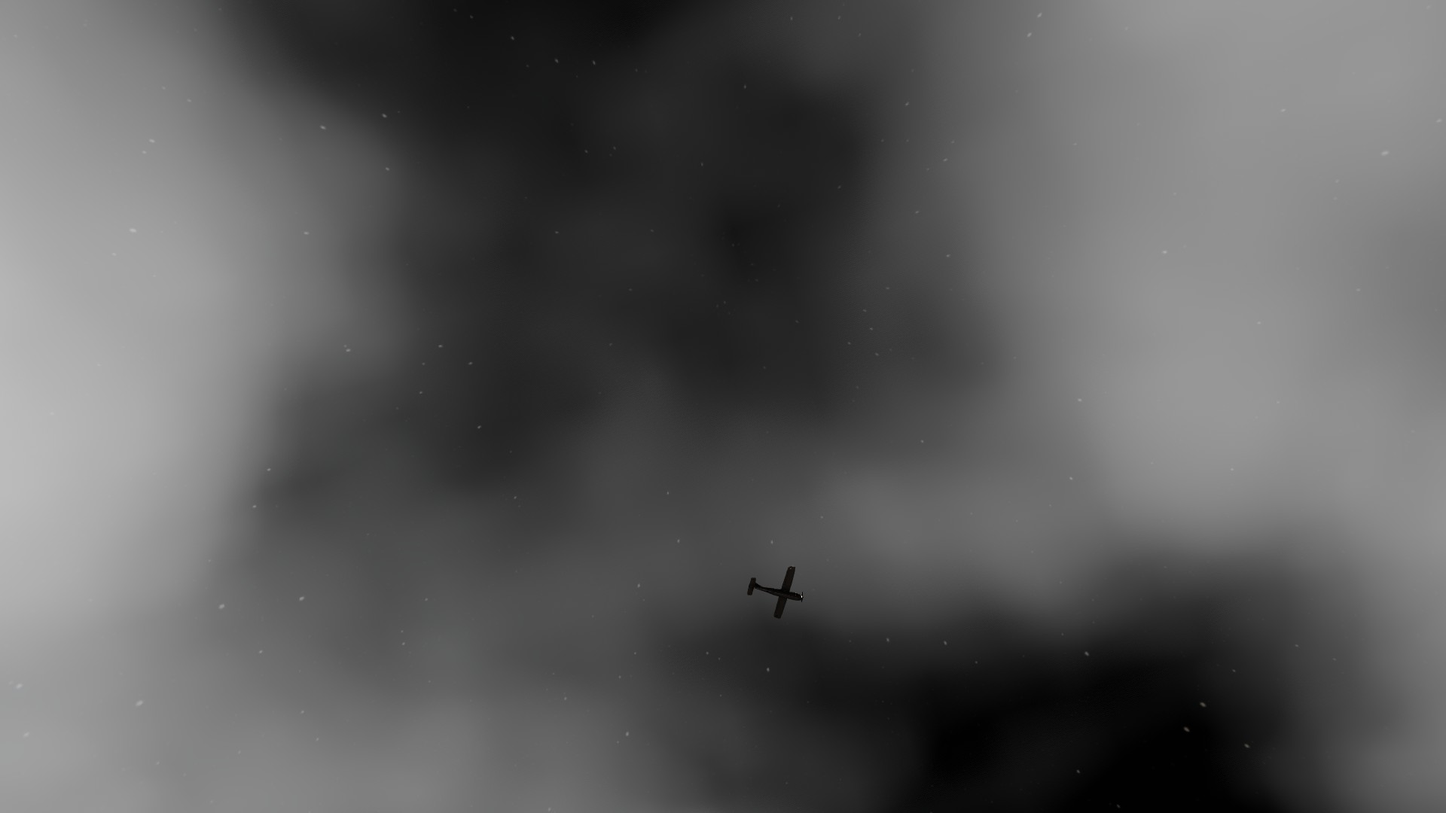drone_other: (747, 566, 804, 618)
